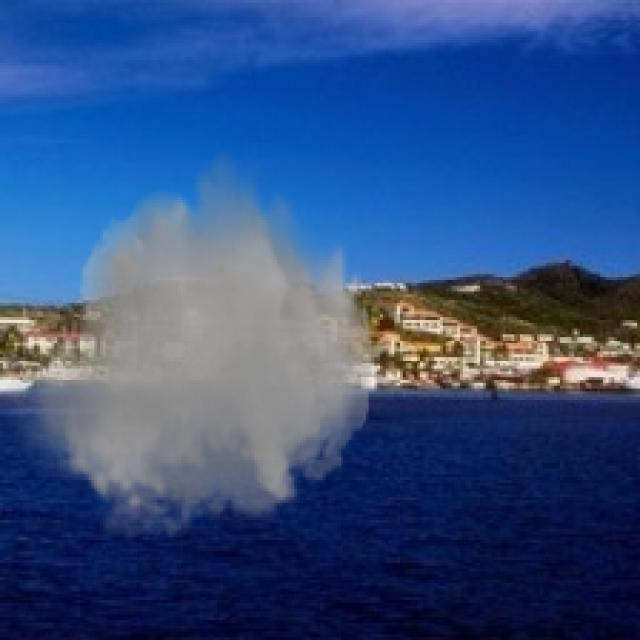smoke: (6, 143, 383, 554)
